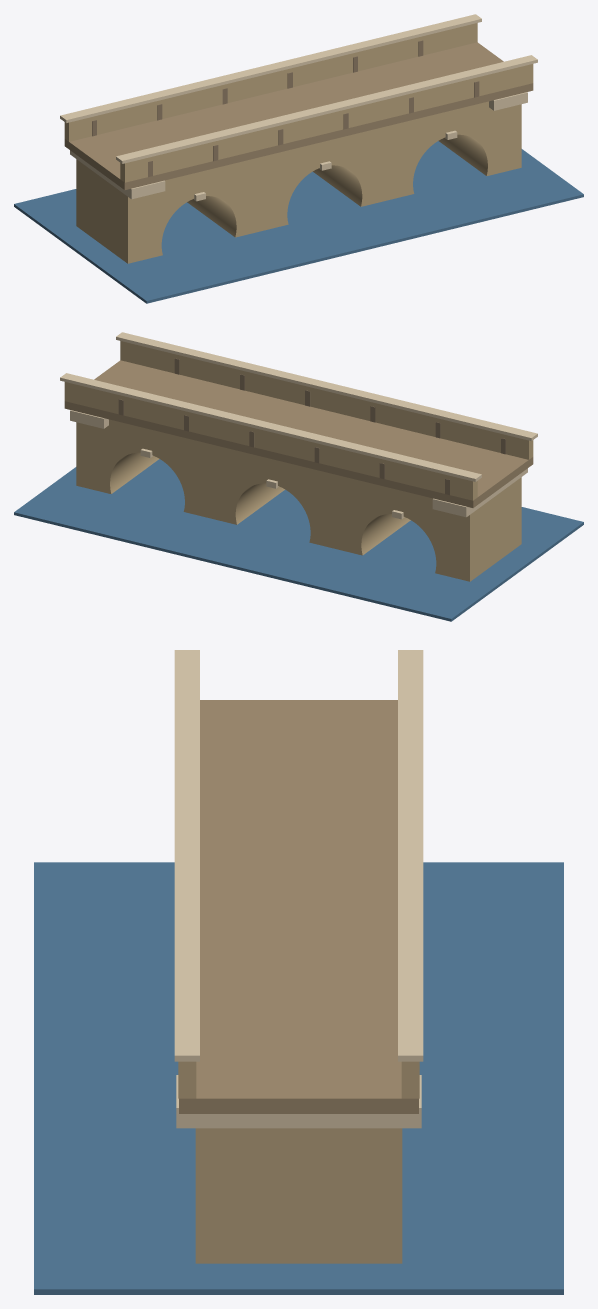
The picture shows the model from 3 angles, top to bottom: view 1: azimuth 30°, elevation 25°; view 2: azimuth 150°, elevation 25°; view 3: azimuth 270°, elevation 25°; orthographic projection. The views are drawn at different scales.
Parts seen in each view (by area): view 1: River surface, Stone bridge with three true tunnel openings, Continuous bridge deck, Stone parapet y20, Stone parapet y-20, Parapet coping y-20, Parapet coping y20, Abutment top -75, Abutment top 75; view 2: River surface, Stone bridge with three true tunnel openings, Continuous bridge deck, Stone parapet y-20, Stone parapet y20, Parapet coping y20, Parapet coping y-20, Abutment top -75, Abutment top 75; view 3: River surface, Continuous bridge deck, Stone bridge with three true tunnel openings, Parapet coping y-20, Parapet coping y20, Abutment top 75.
Boxes of the visible parts, <box> form: River surface: <box>14,141,583,303</box>; Stone bridge with three true tunnel openings: <box>76,101,521,263</box>; Continuous bridge deck: <box>64,42,533,189</box>; Stone parapet y20: <box>64,23,477,141</box>; Stone parapet y-20: <box>120,64,533,182</box>; Parapet coping y-20: <box>116,55,537,163</box>; Parapet coping y20: <box>60,14,481,122</box>; Abutment top -75: <box>70,150,165,199</box>; Abutment top 75: <box>489,92,527,110</box>; River surface: <box>14,459,583,621</box>; Stone bridge with three true tunnel openings: <box>76,419,521,581</box>; Continuous bridge deck: <box>64,360,533,507</box>; Stone parapet y-20: <box>120,341,533,459</box>; Stone parapet y20: <box>64,382,477,500</box>; Parapet coping y20: <box>60,373,481,481</box>; Parapet coping y-20: <box>116,332,537,440</box>; Abutment top -75: <box>432,468,527,517</box>; Abutment top 75: <box>70,410,108,428</box>; River surface: <box>34,862,563,1294</box>; Continuous bridge deck: <box>179,700,418,1113</box>; Stone bridge with three true tunnel openings: <box>195,1128,402,1263</box>; Parapet coping y-20: <box>174,650,199,1061</box>; Parapet coping y20: <box>398,650,423,1061</box>; Abutment top 75: <box>176,1075,421,1128</box>.
Size of the model in its own units: 0.181 by 0.0452 by 0.095.
